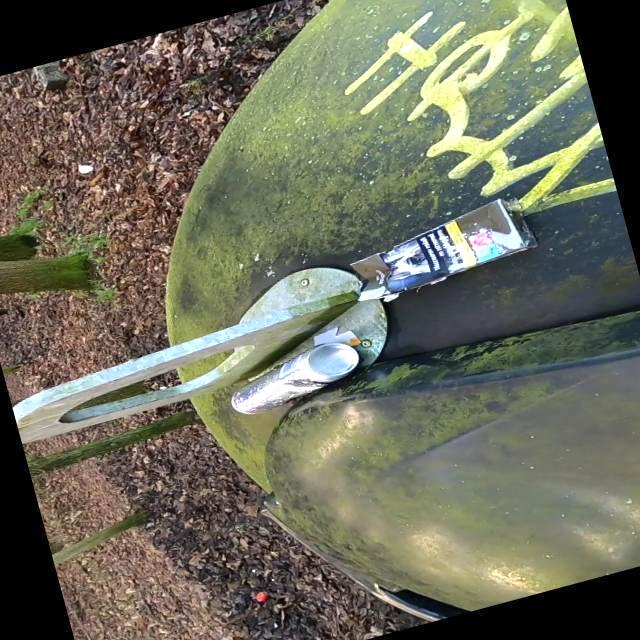Metal: (230, 340, 362, 416)
Paper: (348, 194, 540, 304), (78, 162, 94, 174)
Plastic: (313, 324, 362, 348)
